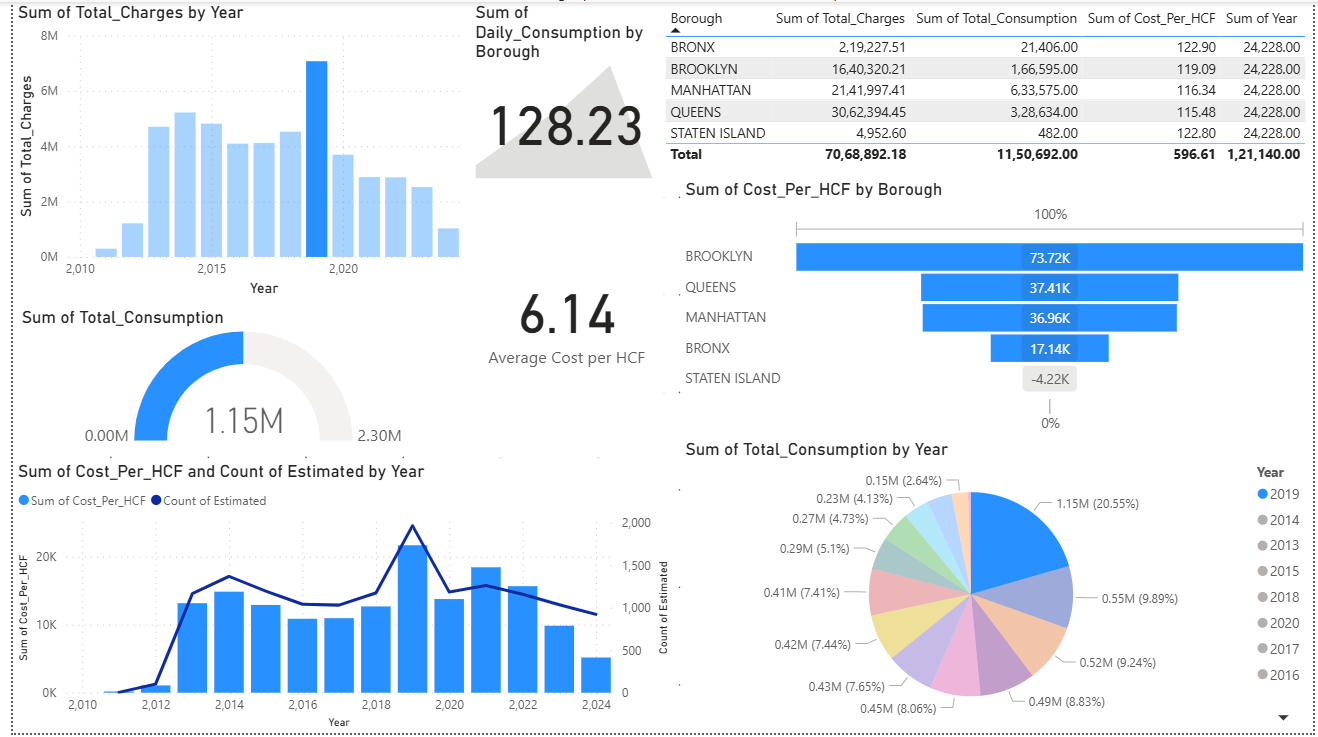

What the dashboard file says about the page in this screenshot:
{"tool":"powerbi","page":{"name":"Page 1","canvas":[1280,720],"ordinal":0},"visuals":[{"type":"pieChart","fields":{"Category":["vw_monthly_consumption.Year"],"Y":["Sum(vw_monthly_consumption.Total_Consumption)"]},"box":[656.7,430,623.3,288.3],"z":0},{"type":"lineClusteredColumnComboChart","fields":{"Category":["vw_monthly_consumption.Year"],"Y":["Sum(vw_monthly_consumption.Total_Charges)"]},"box":[0,0,450,295],"z":1000},{"type":"tableEx","fields":{"Values":["vw_monthly_consumption.Borough","Sum(vw_monthly_consumption.Total_Charges)","Sum(vw_monthly_consumption.Total_Consumption)","Sum(vw_monthly_consumption.Cost_Per_HCF)","Sum(vw_monthly_consumption.Year)"]},"box":[636.6,0,643.4,185.3],"z":2000},{"type":"kpi","fields":{"Indicator":["Sum(water_consumption.Daily_Consumption)"],"TrendLine":["water_consumption.Borough"]},"box":[450,0,186.7,185],"z":3000},{"type":"card","fields":{"Values":["vw_monthly_consumption.Average Cost per HCF"]},"box":[450,173.3,190,275],"z":4000},{"type":"funnel","fields":{"Category":["water_consumption (2).Borough"],"Y":["Sum(water_consumption (2).Cost_Per_HCF)"]},"box":[656.8,173.5,623.2,256],"z":5000},{"type":"lineStackedColumnComboChart","fields":{"Category":["water_consumption.Year"],"Y":["Sum(water_consumption.Cost_Per_HCF)"],"Y2":["CountNonNull(water_consumption.Estimated)"]},"box":[0,451.7,651.7,268.3],"z":6000},{"type":"gauge","fields":{"Y":["Sum(vw_monthly_consumption.Total_Consumption)"]},"box":[3.3,300,446.7,141.7],"z":7000}]}

Visuals, with their boxes in screenshot pixels (x1, y1, x2, y2), scaled from the page's 1280x720 canvas onto the 1318x737 screenshot:
pieChart - vw_monthly_consumption.Year x Sum(vw_monthly_consumption.Total_Consumption): region(676, 440, 1317, 735)
lineClusteredColumnComboChart - vw_monthly_consumption.Year x Sum(vw_monthly_consumption.Total_Charges): region(0, 0, 463, 302)
tableEx - vw_monthly_consumption.Borough x Sum(vw_monthly_consumption.Total_Charges): region(655, 0, 1317, 190)
kpi - Sum(water_consumption.Daily_Consumption) x water_consumption.Borough: region(463, 0, 656, 189)
card - vw_monthly_consumption.Average Cost per HCF: region(463, 177, 659, 459)
funnel - water_consumption (2).Borough x Sum(water_consumption (2).Cost_Per_HCF): region(676, 178, 1317, 440)
lineStackedColumnComboChart - water_consumption.Year x Sum(water_consumption.Cost_Per_HCF): region(0, 462, 671, 736)
gauge - Sum(vw_monthly_consumption.Total_Consumption): region(3, 307, 463, 452)
